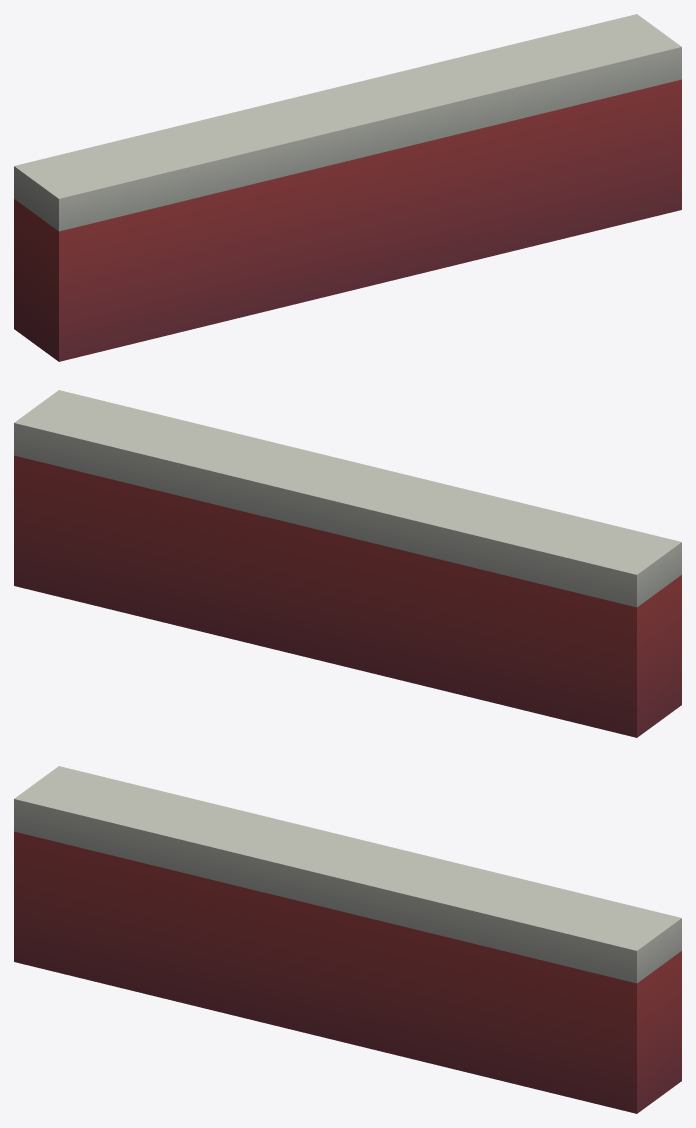
Rendered from Wall_Low_Brick_01.fbx.
3 views of the same model, one above another, from view 1: azimuth 30°, elevation 25°; view 2: azimuth 150°, elevation 25°; view 3: azimuth 330°, elevation 25° (orthographic).
Visible parts, largest first — view 1: Wall_Low_Brick_01; view 2: Wall_Low_Brick_01; view 3: Wall_Low_Brick_01.
Part boxes in pixels (x1=…): Wall_Low_Brick_01: x1=14, y1=14, x2=681, y2=361; Wall_Low_Brick_01: x1=14, y1=390, x2=681, y2=737; Wall_Low_Brick_01: x1=14, y1=766, x2=681, y2=1113.
Bounding box in the file's own units: 400 × 100 × 50.
